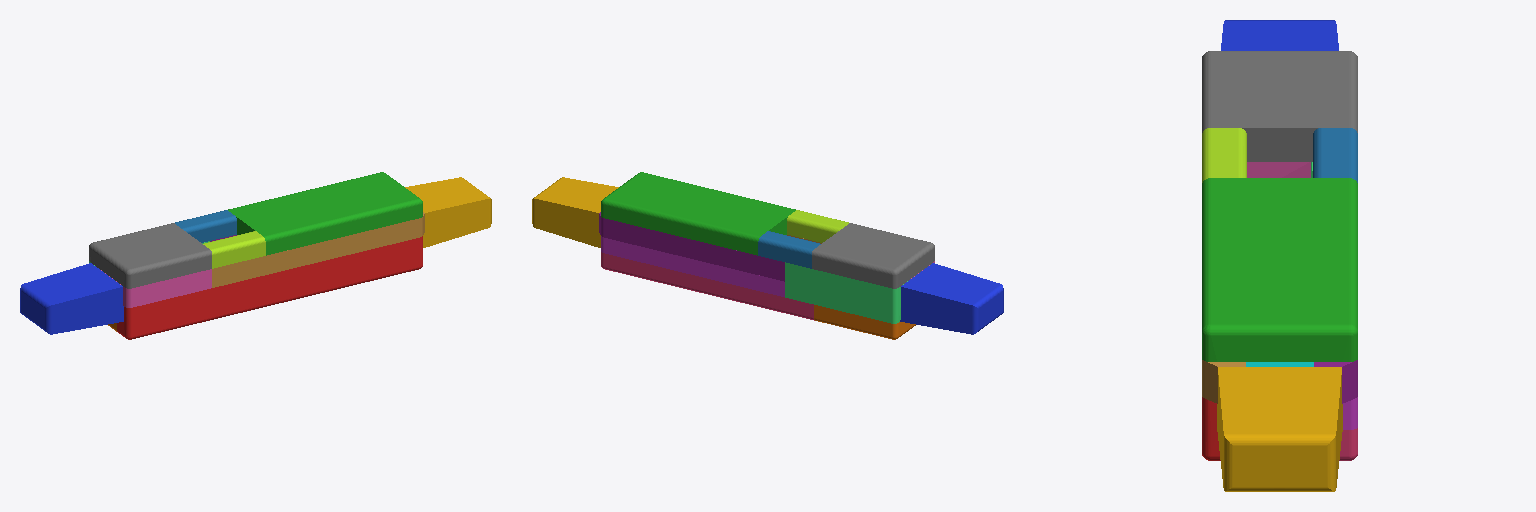
The robot description file, URDF, robot "beam_3x_2_matchedmass_coacd":
<?xml version="1.0"?>
<robot name="beam_3x_2_matchedmass_coacd">
  <material name="color_0"><color rgba="0.9 0.2 0.2 1.0"/></material>
  <material name="color_1"><color rgba="0.2 0.7 0.2 1.0"/></material>
  <material name="color_2"><color rgba="0.2 0.3 0.9 1.0"/></material>
  <material name="color_3"><color rgba="0.9 0.7 0.1 1.0"/></material>
  <material name="color_4"><color rgba="0.8 0.3 0.8 1.0"/></material>
  <material name="color_5"><color rgba="0.1 0.8 0.8 1.0"/></material>
  <material name="color_6"><color rgba="0.9 0.5 0.1 1.0"/></material>
  <material name="color_7"><color rgba="0.5 0.5 0.5 1.0"/></material>
  <material name="color_8"><color rgba="0.6 0.2 0.6 1.0"/></material>
  <material name="color_9"><color rgba="0.3 0.9 0.5 1.0"/></material>
  <material name="color_10"><color rgba="0.9 0.3 0.5 1.0"/></material>
  <material name="color_11"><color rgba="0.4 0.6 0.9 1.0"/></material>
  <material name="color_12"><color rgba="0.7 0.9 0.2 1.0"/></material>
  <material name="color_13"><color rgba="0.9 0.4 0.7 1.0"/></material>
  <material name="color_14"><color rgba="0.2 0.5 0.7 1.0"/></material>
  <material name="color_15"><color rgba="0.8 0.6 0.3 1.0"/></material>
  <link name="base_link">
    <inertial>
      <!-- measured 2026-05-20: 68.57 g  → ρ=335.2 -->
      <mass value="0.068570"/>
      <origin xyz="0.002767 -0.000000 0.000034" rpy="0 0 0"/>
      <inertia ixx="1.322114e-05" ixy="1.702667e-12" ixz="9.878826e-08" iyy="2.235268e-04" iyz="-5.800965e-12" izz="2.249660e-04"/>
    </inertial>
  </link>
  <link name="hull_0">
    <visual>
      <origin xyz="0 0 0" rpy="0 0 0"/>
      <geometry>
        <mesh filename="decomp_0.obj" scale="1 1 1"/>
      </geometry>
      <material name="color_0"/>
    </visual>
    <collision>
      <origin xyz="0 0 0" rpy="0 0 0"/>
      <geometry>
        <mesh filename="decomp_0.obj" scale="1 1 1"/>
      </geometry>
    </collision>
    <inertial>
      <mass value="0.001"/>
      <inertia ixx="1e-6" ixy="0" ixz="0" iyy="1e-6" iyz="0" izz="1e-6"/>
    </inertial>
  </link>
  <joint name="hull_joint_0" type="fixed">
    <parent link="base_link"/>
    <child link="hull_0"/>
    <origin xyz="0 0 0" rpy="0 0 0"/>
  </joint>
  <link name="hull_1">
    <visual>
      <origin xyz="0 0 0" rpy="0 0 0"/>
      <geometry>
        <mesh filename="decomp_1.obj" scale="1 1 1"/>
      </geometry>
      <material name="color_1"/>
    </visual>
    <collision>
      <origin xyz="0 0 0" rpy="0 0 0"/>
      <geometry>
        <mesh filename="decomp_1.obj" scale="1 1 1"/>
      </geometry>
    </collision>
    <inertial>
      <mass value="0.001"/>
      <inertia ixx="1e-6" ixy="0" ixz="0" iyy="1e-6" iyz="0" izz="1e-6"/>
    </inertial>
  </link>
  <joint name="hull_joint_1" type="fixed">
    <parent link="base_link"/>
    <child link="hull_1"/>
    <origin xyz="0 0 0" rpy="0 0 0"/>
  </joint>
  <link name="hull_2">
    <visual>
      <origin xyz="0 0 0" rpy="0 0 0"/>
      <geometry>
        <mesh filename="decomp_2.obj" scale="1 1 1"/>
      </geometry>
      <material name="color_2"/>
    </visual>
    <collision>
      <origin xyz="0 0 0" rpy="0 0 0"/>
      <geometry>
        <mesh filename="decomp_2.obj" scale="1 1 1"/>
      </geometry>
    </collision>
    <inertial>
      <mass value="0.001"/>
      <inertia ixx="1e-6" ixy="0" ixz="0" iyy="1e-6" iyz="0" izz="1e-6"/>
    </inertial>
  </link>
  <joint name="hull_joint_2" type="fixed">
    <parent link="base_link"/>
    <child link="hull_2"/>
    <origin xyz="0 0 0" rpy="0 0 0"/>
  </joint>
  <link name="hull_3">
    <visual>
      <origin xyz="0 0 0" rpy="0 0 0"/>
      <geometry>
        <mesh filename="decomp_3.obj" scale="1 1 1"/>
      </geometry>
      <material name="color_3"/>
    </visual>
    <collision>
      <origin xyz="0 0 0" rpy="0 0 0"/>
      <geometry>
        <mesh filename="decomp_3.obj" scale="1 1 1"/>
      </geometry>
    </collision>
    <inertial>
      <mass value="0.001"/>
      <inertia ixx="1e-6" ixy="0" ixz="0" iyy="1e-6" iyz="0" izz="1e-6"/>
    </inertial>
  </link>
  <joint name="hull_joint_3" type="fixed">
    <parent link="base_link"/>
    <child link="hull_3"/>
    <origin xyz="0 0 0" rpy="0 0 0"/>
  </joint>
  <link name="hull_4">
    <visual>
      <origin xyz="0 0 0" rpy="0 0 0"/>
      <geometry>
        <mesh filename="decomp_4.obj" scale="1 1 1"/>
      </geometry>
      <material name="color_4"/>
    </visual>
    <collision>
      <origin xyz="0 0 0" rpy="0 0 0"/>
      <geometry>
        <mesh filename="decomp_4.obj" scale="1 1 1"/>
      </geometry>
    </collision>
    <inertial>
      <mass value="0.001"/>
      <inertia ixx="1e-6" ixy="0" ixz="0" iyy="1e-6" iyz="0" izz="1e-6"/>
    </inertial>
  </link>
  <joint name="hull_joint_4" type="fixed">
    <parent link="base_link"/>
    <child link="hull_4"/>
    <origin xyz="0 0 0" rpy="0 0 0"/>
  </joint>
  <link name="hull_5">
    <visual>
      <origin xyz="0 0 0" rpy="0 0 0"/>
      <geometry>
        <mesh filename="decomp_5.obj" scale="1 1 1"/>
      </geometry>
      <material name="color_5"/>
    </visual>
    <collision>
      <origin xyz="0 0 0" rpy="0 0 0"/>
      <geometry>
        <mesh filename="decomp_5.obj" scale="1 1 1"/>
      </geometry>
    </collision>
    <inertial>
      <mass value="0.001"/>
      <inertia ixx="1e-6" ixy="0" ixz="0" iyy="1e-6" iyz="0" izz="1e-6"/>
    </inertial>
  </link>
  <joint name="hull_joint_5" type="fixed">
    <parent link="base_link"/>
    <child link="hull_5"/>
    <origin xyz="0 0 0" rpy="0 0 0"/>
  </joint>
  <link name="hull_6">
    <visual>
      <origin xyz="0 0 0" rpy="0 0 0"/>
      <geometry>
        <mesh filename="decomp_6.obj" scale="1 1 1"/>
      </geometry>
      <material name="color_6"/>
    </visual>
    <collision>
      <origin xyz="0 0 0" rpy="0 0 0"/>
      <geometry>
        <mesh filename="decomp_6.obj" scale="1 1 1"/>
      </geometry>
    </collision>
    <inertial>
      <mass value="0.001"/>
      <inertia ixx="1e-6" ixy="0" ixz="0" iyy="1e-6" iyz="0" izz="1e-6"/>
    </inertial>
  </link>
  <joint name="hull_joint_6" type="fixed">
    <parent link="base_link"/>
    <child link="hull_6"/>
    <origin xyz="0 0 0" rpy="0 0 0"/>
  </joint>
  <link name="hull_7">
    <visual>
      <origin xyz="0 0 0" rpy="0 0 0"/>
      <geometry>
        <mesh filename="decomp_7.obj" scale="1 1 1"/>
      </geometry>
      <material name="color_7"/>
    </visual>
    <collision>
      <origin xyz="0 0 0" rpy="0 0 0"/>
      <geometry>
        <mesh filename="decomp_7.obj" scale="1 1 1"/>
      </geometry>
    </collision>
    <inertial>
      <mass value="0.001"/>
      <inertia ixx="1e-6" ixy="0" ixz="0" iyy="1e-6" iyz="0" izz="1e-6"/>
    </inertial>
  </link>
  <joint name="hull_joint_7" type="fixed">
    <parent link="base_link"/>
    <child link="hull_7"/>
    <origin xyz="0 0 0" rpy="0 0 0"/>
  </joint>
  <link name="hull_8">
    <visual>
      <origin xyz="0 0 0" rpy="0 0 0"/>
      <geometry>
        <mesh filename="decomp_8.obj" scale="1 1 1"/>
      </geometry>
      <material name="color_8"/>
    </visual>
    <collision>
      <origin xyz="0 0 0" rpy="0 0 0"/>
      <geometry>
        <mesh filename="decomp_8.obj" scale="1 1 1"/>
      </geometry>
    </collision>
    <inertial>
      <mass value="0.001"/>
      <inertia ixx="1e-6" ixy="0" ixz="0" iyy="1e-6" iyz="0" izz="1e-6"/>
    </inertial>
  </link>
  <joint name="hull_joint_8" type="fixed">
    <parent link="base_link"/>
    <child link="hull_8"/>
    <origin xyz="0 0 0" rpy="0 0 0"/>
  </joint>
  <link name="hull_9">
    <visual>
      <origin xyz="0 0 0" rpy="0 0 0"/>
      <geometry>
        <mesh filename="decomp_9.obj" scale="1 1 1"/>
      </geometry>
      <material name="color_9"/>
    </visual>
    <collision>
      <origin xyz="0 0 0" rpy="0 0 0"/>
      <geometry>
        <mesh filename="decomp_9.obj" scale="1 1 1"/>
      </geometry>
    </collision>
    <inertial>
      <mass value="0.001"/>
      <inertia ixx="1e-6" ixy="0" ixz="0" iyy="1e-6" iyz="0" izz="1e-6"/>
    </inertial>
  </link>
  <joint name="hull_joint_9" type="fixed">
    <parent link="base_link"/>
    <child link="hull_9"/>
    <origin xyz="0 0 0" rpy="0 0 0"/>
  </joint>
  <link name="hull_10">
    <visual>
      <origin xyz="0 0 0" rpy="0 0 0"/>
      <geometry>
        <mesh filename="decomp_10.obj" scale="1 1 1"/>
      </geometry>
      <material name="color_10"/>
    </visual>
    <collision>
      <origin xyz="0 0 0" rpy="0 0 0"/>
      <geometry>
        <mesh filename="decomp_10.obj" scale="1 1 1"/>
      </geometry>
    </collision>
    <inertial>
      <mass value="0.001"/>
      <inertia ixx="1e-6" ixy="0" ixz="0" iyy="1e-6" iyz="0" izz="1e-6"/>
    </inertial>
  </link>
  <joint name="hull_joint_10" type="fixed">
    <parent link="base_link"/>
    <child link="hull_10"/>
    <origin xyz="0 0 0" rpy="0 0 0"/>
  </joint>
  <link name="hull_11">
    <visual>
      <origin xyz="0 0 0" rpy="0 0 0"/>
      <geometry>
        <mesh filename="decomp_11.obj" scale="1 1 1"/>
      </geometry>
      <material name="color_11"/>
    </visual>
    <collision>
      <origin xyz="0 0 0" rpy="0 0 0"/>
      <geometry>
        <mesh filename="decomp_11.obj" scale="1 1 1"/>
      </geometry>
    </collision>
    <inertial>
      <mass value="0.001"/>
      <inertia ixx="1e-6" ixy="0" ixz="0" iyy="1e-6" iyz="0" izz="1e-6"/>
    </inertial>
  </link>
  <joint name="hull_joint_11" type="fixed">
    <parent link="base_link"/>
    <child link="hull_11"/>
    <origin xyz="0 0 0" rpy="0 0 0"/>
  </joint>
  <link name="hull_12">
    <visual>
      <origin xyz="0 0 0" rpy="0 0 0"/>
      <geometry>
        <mesh filename="decomp_12.obj" scale="1 1 1"/>
      </geometry>
      <material name="color_12"/>
    </visual>
    <collision>
      <origin xyz="0 0 0" rpy="0 0 0"/>
      <geometry>
        <mesh filename="decomp_12.obj" scale="1 1 1"/>
      </geometry>
    </collision>
    <inertial>
      <mass value="0.001"/>
      <inertia ixx="1e-6" ixy="0" ixz="0" iyy="1e-6" iyz="0" izz="1e-6"/>
    </inertial>
  </link>
  <joint name="hull_joint_12" type="fixed">
    <parent link="base_link"/>
    <child link="hull_12"/>
    <origin xyz="0 0 0" rpy="0 0 0"/>
  </joint>
  <link name="hull_13">
    <visual>
      <origin xyz="0 0 0" rpy="0 0 0"/>
      <geometry>
        <mesh filename="decomp_13.obj" scale="1 1 1"/>
      </geometry>
      <material name="color_13"/>
    </visual>
    <collision>
      <origin xyz="0 0 0" rpy="0 0 0"/>
      <geometry>
        <mesh filename="decomp_13.obj" scale="1 1 1"/>
      </geometry>
    </collision>
    <inertial>
      <mass value="0.001"/>
      <inertia ixx="1e-6" ixy="0" ixz="0" iyy="1e-6" iyz="0" izz="1e-6"/>
    </inertial>
  </link>
  <joint name="hull_joint_13" type="fixed">
    <parent link="base_link"/>
    <child link="hull_13"/>
    <origin xyz="0 0 0" rpy="0 0 0"/>
  </joint>
  <link name="hull_14">
    <visual>
      <origin xyz="0 0 0" rpy="0 0 0"/>
      <geometry>
        <mesh filename="decomp_14.obj" scale="1 1 1"/>
      </geometry>
      <material name="color_14"/>
    </visual>
    <collision>
      <origin xyz="0 0 0" rpy="0 0 0"/>
      <geometry>
        <mesh filename="decomp_14.obj" scale="1 1 1"/>
      </geometry>
    </collision>
    <inertial>
      <mass value="0.001"/>
      <inertia ixx="1e-6" ixy="0" ixz="0" iyy="1e-6" iyz="0" izz="1e-6"/>
    </inertial>
  </link>
  <joint name="hull_joint_14" type="fixed">
    <parent link="base_link"/>
    <child link="hull_14"/>
    <origin xyz="0 0 0" rpy="0 0 0"/>
  </joint>
  <link name="hull_15">
    <visual>
      <origin xyz="0 0 0" rpy="0 0 0"/>
      <geometry>
        <mesh filename="decomp_15.obj" scale="1 1 1"/>
      </geometry>
      <material name="color_15"/>
    </visual>
    <collision>
      <origin xyz="0 0 0" rpy="0 0 0"/>
      <geometry>
        <mesh filename="decomp_15.obj" scale="1 1 1"/>
      </geometry>
    </collision>
    <inertial>
      <mass value="0.001"/>
      <inertia ixx="1e-6" ixy="0" ixz="0" iyy="1e-6" iyz="0" izz="1e-6"/>
    </inertial>
  </link>
  <joint name="hull_joint_15" type="fixed">
    <parent link="base_link"/>
    <child link="hull_15"/>
    <origin xyz="0 0 0" rpy="0 0 0"/>
  </joint>
</robot>

--- Render facts (derived) ---
3 views of the same robot in one strip: view 1: azimuth 30°, elevation 25°; view 2: azimuth 150°, elevation 25°; view 3: azimuth 270°, elevation 25° (orthographic).
Robot: beam_3x_2_matchedmass_coacd — 17 links, 16 joints (16 fixed); root link base_link; default pose: every joint at zero.
Links seen in each view (by area): view 1: hull_0, hull_1, hull_2, hull_7, hull_15, hull_3, hull_13, hull_12, hull_14; view 2: hull_1, hull_2, hull_7, hull_9, hull_3, hull_8, hull_10, hull_4, hull_6, hull_14, hull_12; view 3: hull_1, hull_3, hull_7, hull_2, hull_12, hull_14, hull_13, hull_0, hull_8, hull_15.
Boxes of the visible links, box(x1,y1,x2,y2) form: hull_0: box(117, 236, 422, 339); hull_1: box(228, 172, 422, 255); hull_2: box(20, 263, 123, 334); hull_7: box(89, 223, 211, 288); hull_15: box(212, 212, 424, 287); hull_3: box(405, 177, 491, 247); hull_13: box(101, 269, 211, 307); hull_12: box(203, 231, 265, 268); hull_14: box(175, 210, 236, 242); hull_1: box(601, 172, 795, 255); hull_2: box(900, 263, 1003, 334); hull_7: box(812, 223, 934, 288); hull_9: box(785, 262, 907, 323); hull_3: box(532, 177, 618, 247); hull_8: box(599, 212, 784, 281); hull_10: box(601, 252, 814, 320); hull_4: box(601, 236, 784, 296); hull_6: box(814, 305, 915, 339); hull_14: box(758, 231, 820, 268); hull_12: box(787, 210, 848, 242); hull_1: box(1202, 178, 1357, 361); hull_3: box(1217, 367, 1342, 491); hull_7: box(1202, 51, 1357, 161); hull_2: box(1221, 20, 1338, 50); hull_12: box(1202, 128, 1246, 182); hull_14: box(1313, 128, 1357, 182); hull_13: box(1247, 162, 1310, 177); hull_0: box(1202, 397, 1220, 460); hull_8: box(1314, 360, 1357, 403); hull_15: box(1202, 360, 1245, 403).
Bounding box of the posed robot: 0.2286 × 0.036 × 0.0345 m (x, y, z).
16 mesh visuals loaded from 16 distinct referenced files (16 OBJ).
